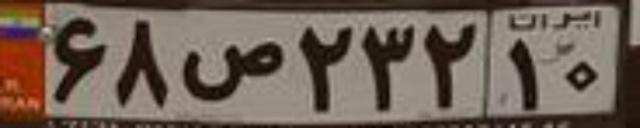0: (560, 60, 601, 91)
1: (503, 36, 545, 112)
2: (296, 24, 352, 113), (423, 21, 477, 110)
3: (357, 22, 415, 113)
6: (50, 17, 103, 103)
8: (109, 19, 170, 108)
saat: (177, 40, 287, 102)
